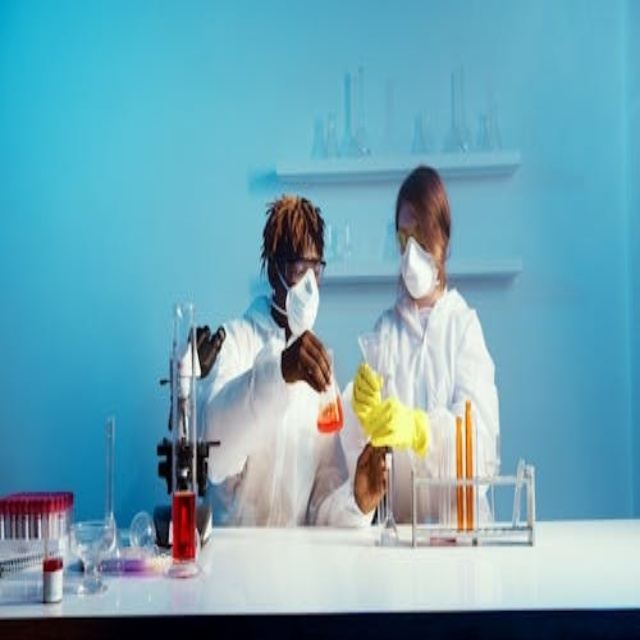Gafas: (276, 254, 327, 285), (396, 227, 433, 254)
Guantes: (362, 392, 431, 460), (348, 360, 380, 417)
Mascara: (276, 265, 321, 337), (398, 235, 439, 300)
Sin_guantes: (282, 330, 333, 393), (353, 440, 391, 512)
